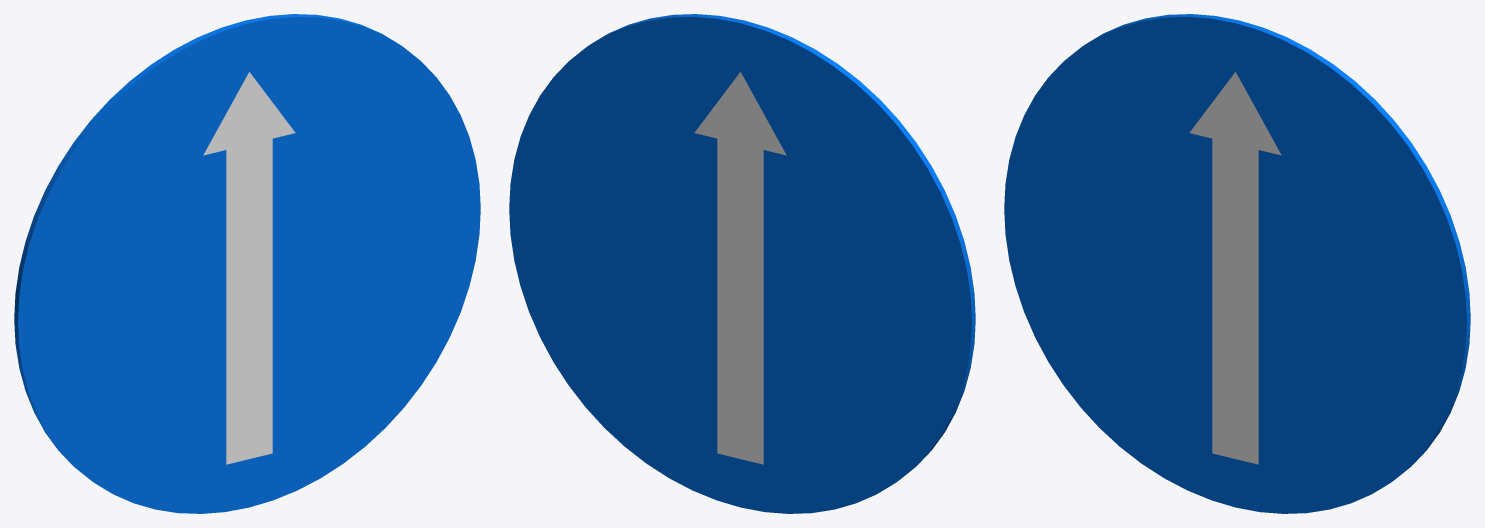
Rendered from r.301a_huongdiphaitheo.glb.
The picture shows the model from 3 angles, left to right: view 1: azimuth 30°, elevation 25°; view 2: azimuth 150°, elevation 25°; view 3: azimuth 330°, elevation 25°; orthographic projection.
Parts seen in each view (by area): view 1: Solid1, Solid2; view 2: Solid1, Solid2; view 3: Solid1, Solid2.
Part boxes in pixels (x1,y1,x2,y2): Solid1: [14, 14, 480, 513]; Solid2: [203, 72, 295, 464]; Solid1: [509, 14, 975, 513]; Solid2: [694, 72, 786, 464]; Solid1: [1004, 14, 1470, 513]; Solid2: [1189, 72, 1281, 464].
Size of the model in its own units: 0.7 by 0.7 by 0.01.
